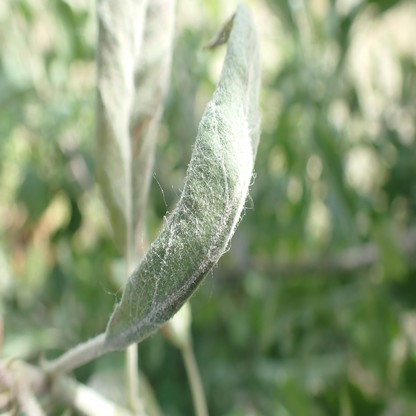powdery_mildew: (112, 1, 266, 357)
